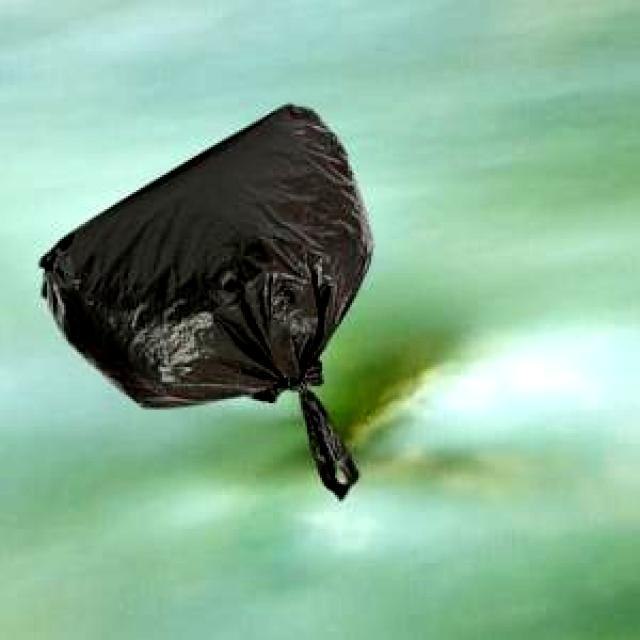Garbage_Bag: (37, 101, 370, 496)
